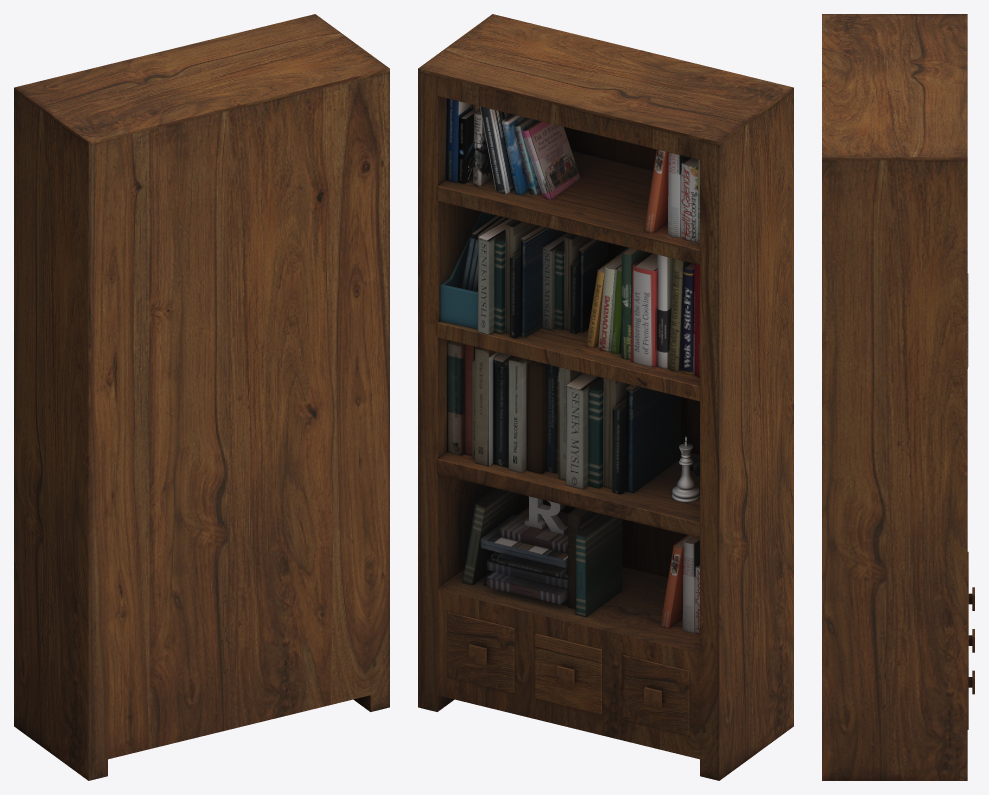
Rendered from Bookshelf.FBX.
3 renders of one model, left to right at view 1: azimuth 30°, elevation 25°; view 2: azimuth 150°, elevation 25°; view 3: azimuth 270°, elevation 25°, orthographic. The views are drawn at different scales.
Visible parts, largest first — view 1: Bookshelf; view 2: Bookshelf, Books, Props; view 3: Bookshelf.
Part boxes in pixels (x1=…): Bookshelf: x1=14, y1=14, x2=389, y2=780; Bookshelf: x1=418, y1=14, x2=793, y2=780; Books: x1=445, y1=98, x2=699, y2=634; Props: x1=440, y1=212, x2=699, y2=534; Bookshelf: x1=822, y1=14, x2=974, y2=780.
Size of the model in its own units: 100 by 203 by 45.14.
3 materials, 3 textured.
